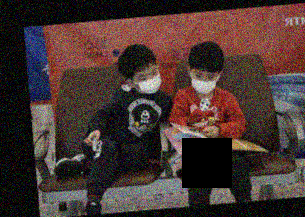with_mask: (190, 68, 219, 96), (133, 66, 161, 94)
